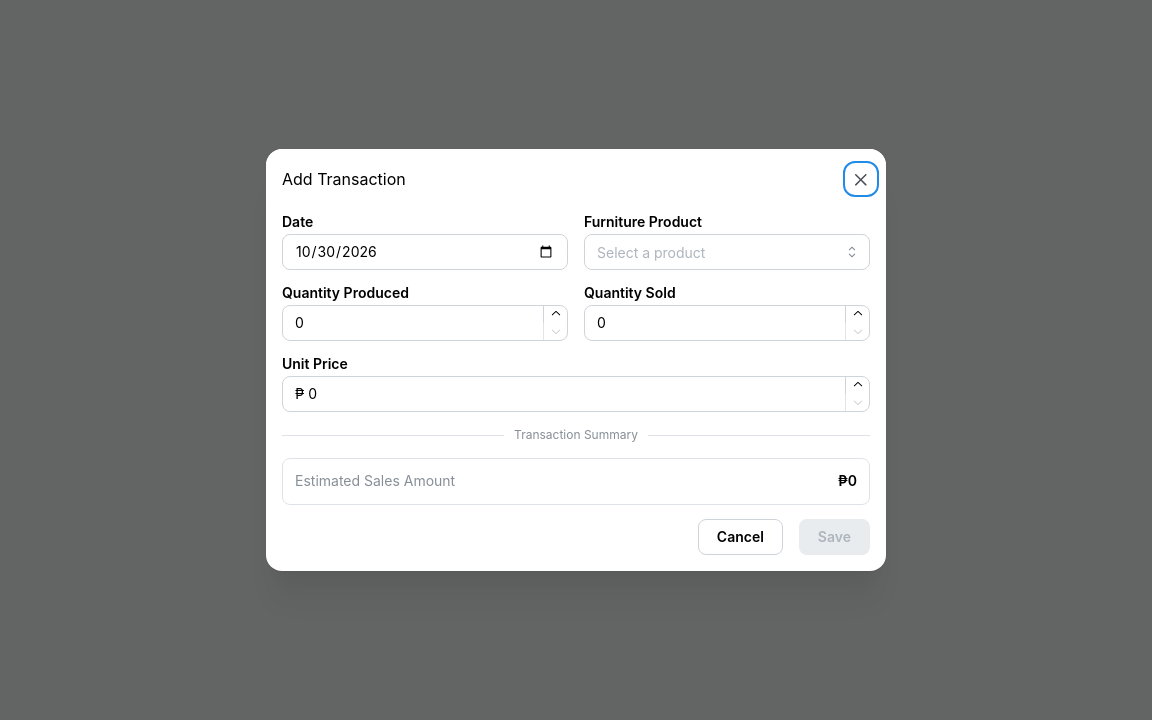
Test: AddTransactionModal › previews only the estimated sales amount
Replace the text in the field labelled "Quantity Sold" with "2" at (727, 323), box [584,305,870,341]
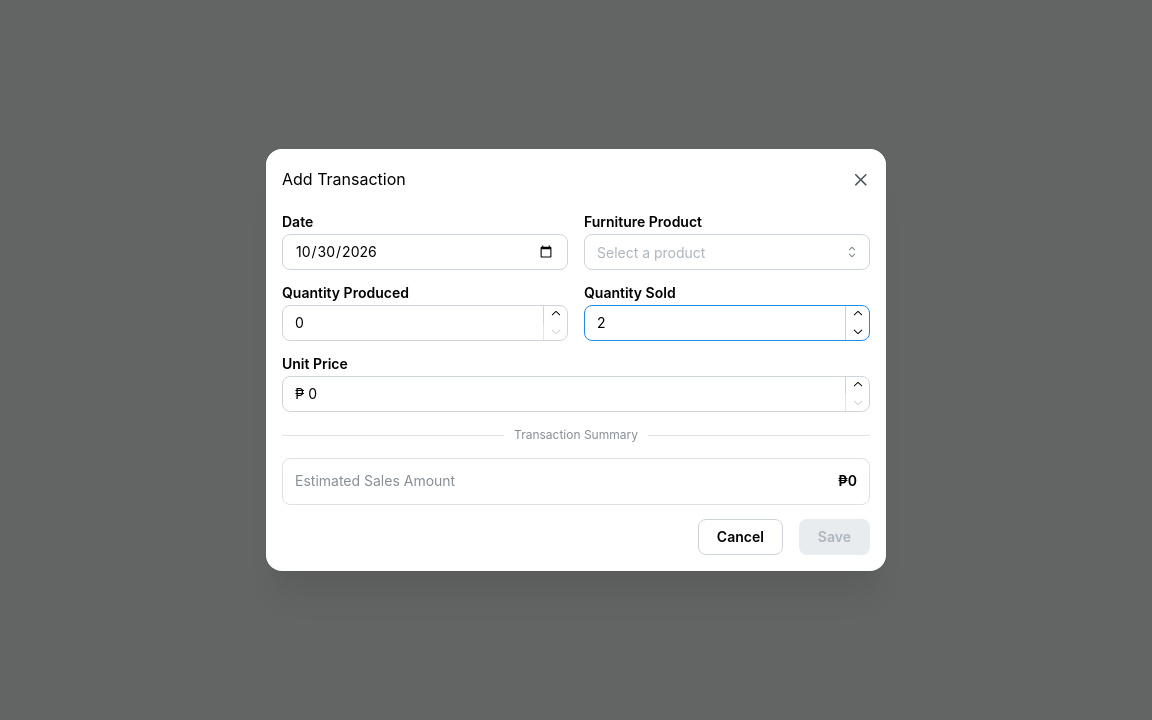
Replace the text in the field labelled "Unit Price" with "1000" at (576, 394), box [282,376,870,412]
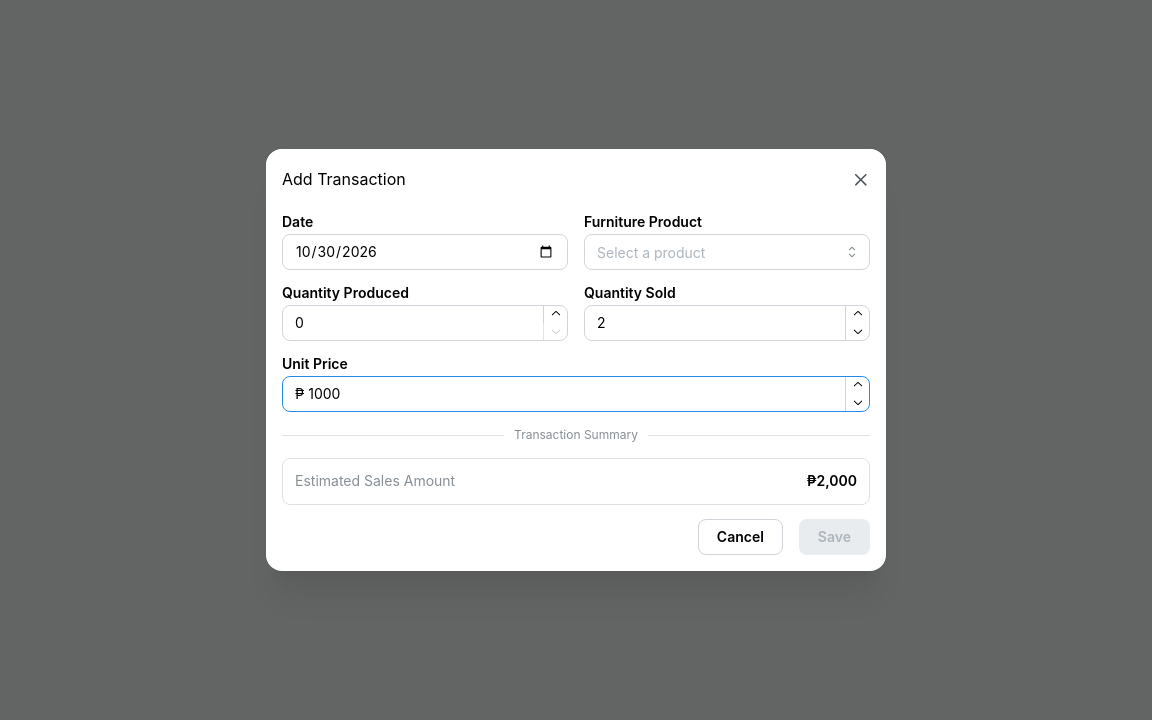
Expected: the text "₱2,000" is shown, [807,471,857,492]
